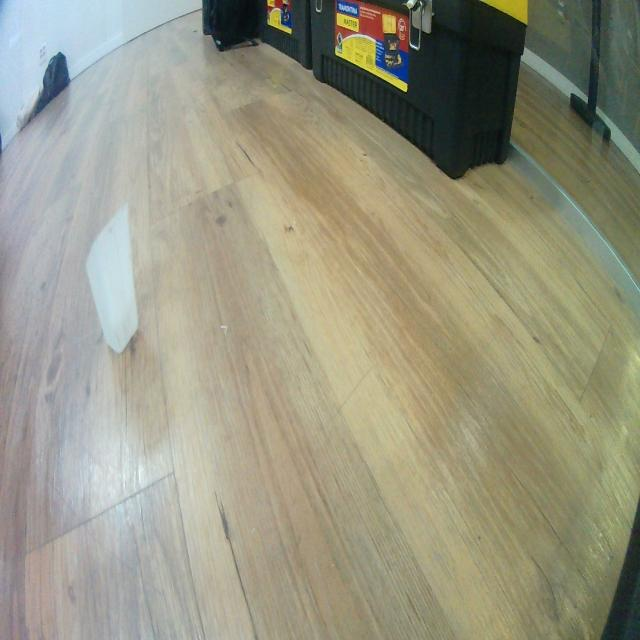erva_daninha: (84, 198, 139, 355)
